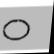no answer: (0, 17, 34, 42)
